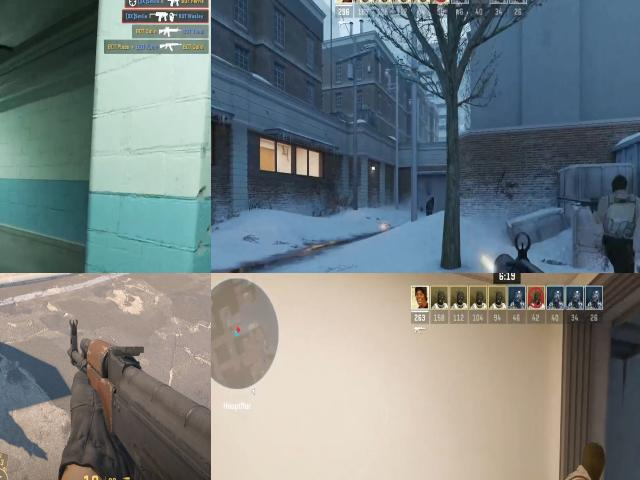T: (595, 176, 640, 273), (536, 430, 608, 480)
T-Head: (569, 439, 609, 480), (608, 174, 628, 204)
